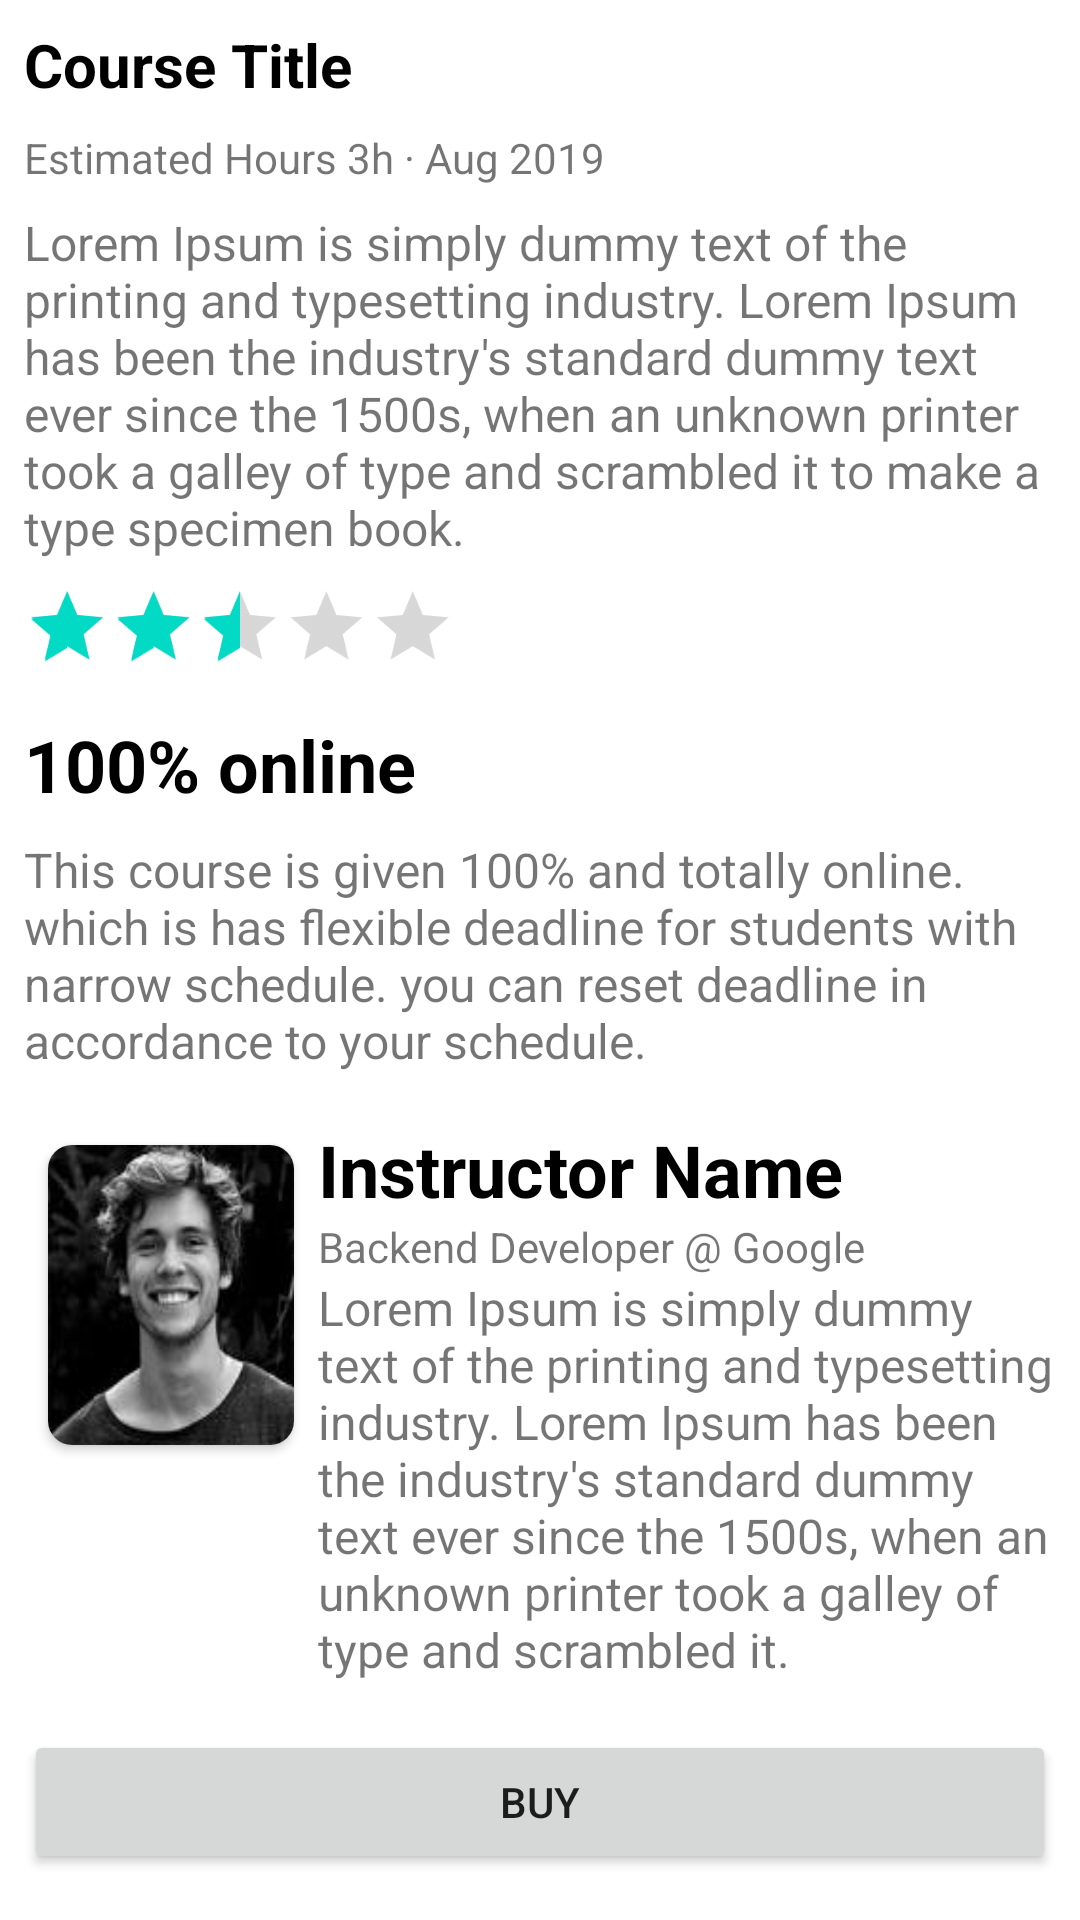

Icon click points for this 1080px×1920px phone screenshot, format (x,y):
man smiling: (171,1295)
